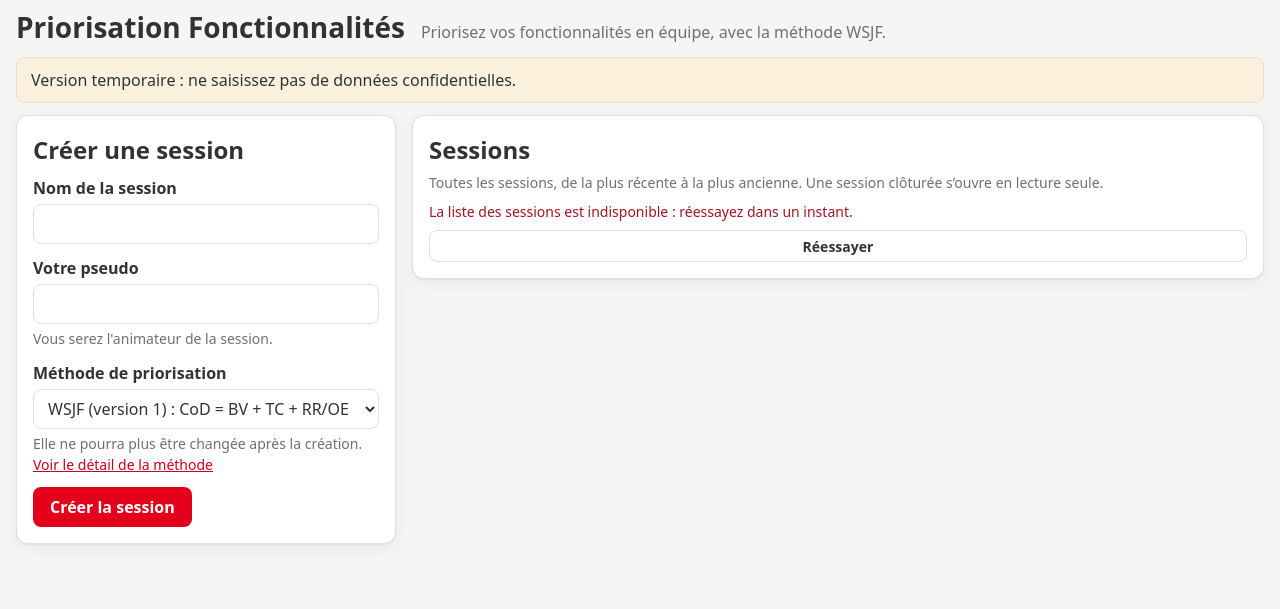
Test: HomeComponent › refuses a name already taken under the name field, keeps the input and focuses it (FR-001a)
This screenshot has width=1280, height=609.
In the field with id "create-name": (206, 224) x1=33 y1=204 x2=379 y2=244, type "PI26T7_TEST"
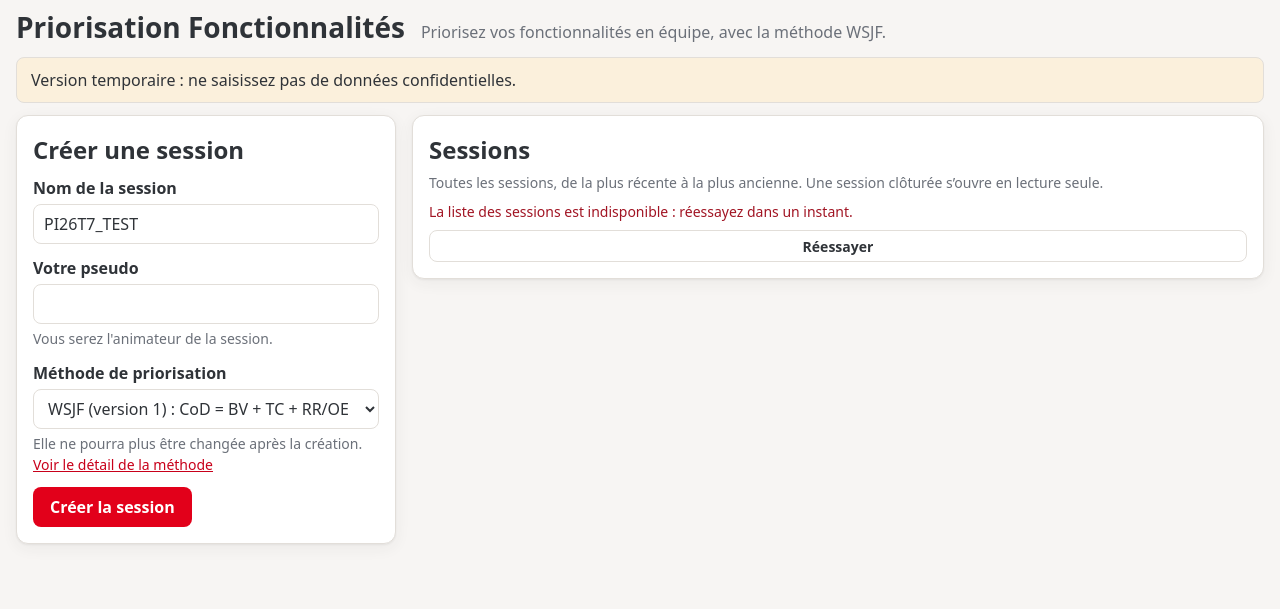
In the field with id "create-pseudo": (206, 304) x1=33 y1=284 x2=379 y2=324, type "Éric"
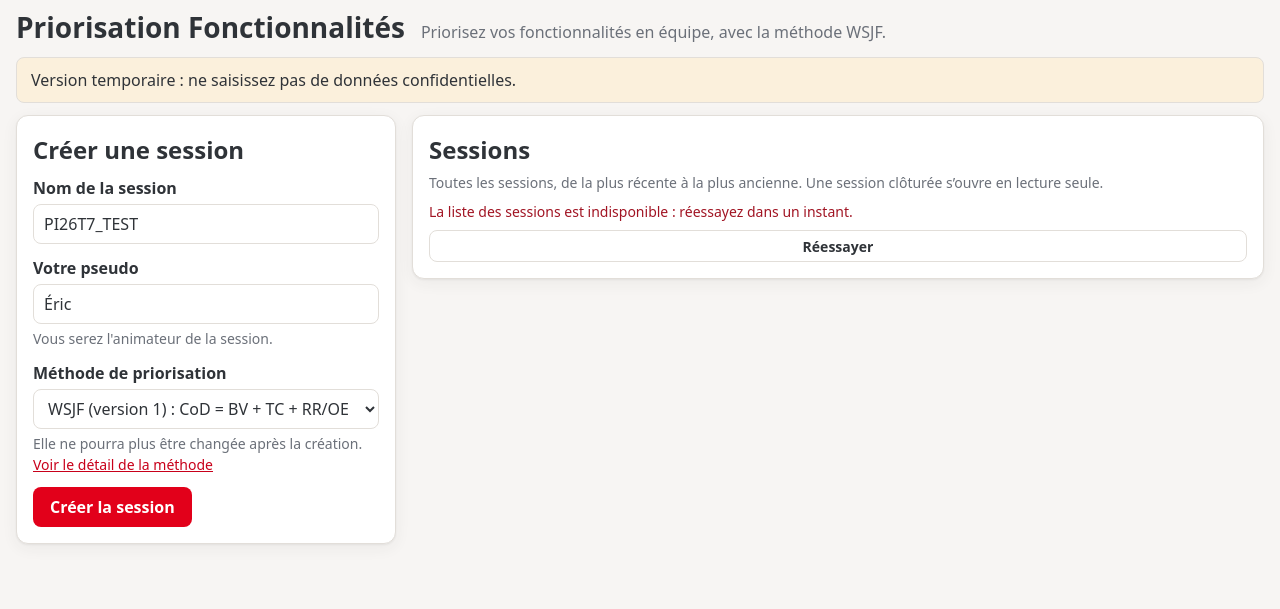
Submit the form, box x1=16 y1=115 x2=396 y2=544
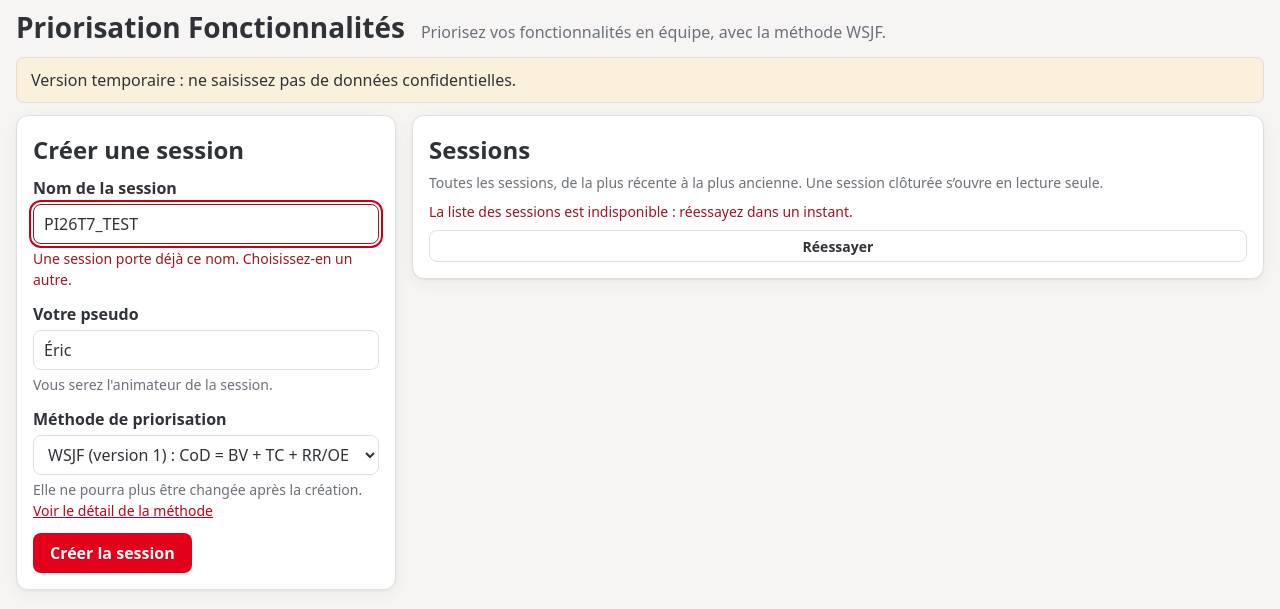
Check: the message with id "create-name-error" reads "Une session porte déjà ce nom. Choisissez-en un autre.", box x1=33 y1=249 x2=352 y2=289
Replace the text in the field with id "create-name" with "PI26T7_TEST bis": (206, 224) x1=33 y1=204 x2=379 y2=244
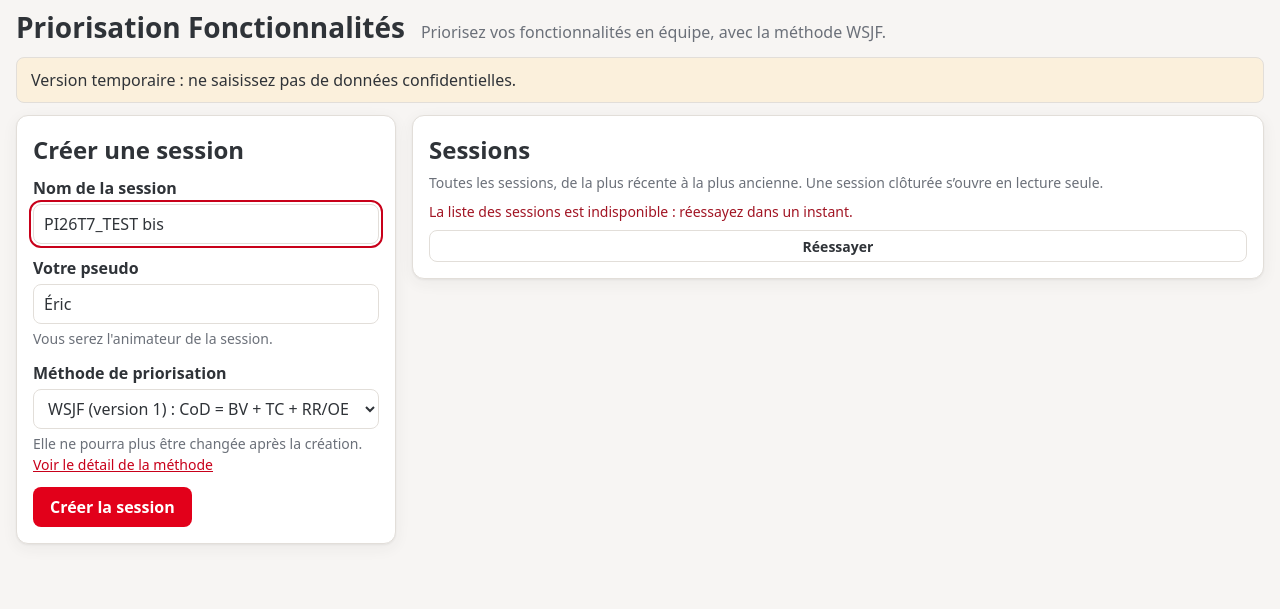
Check: the message with id "create-name-error" is gone
